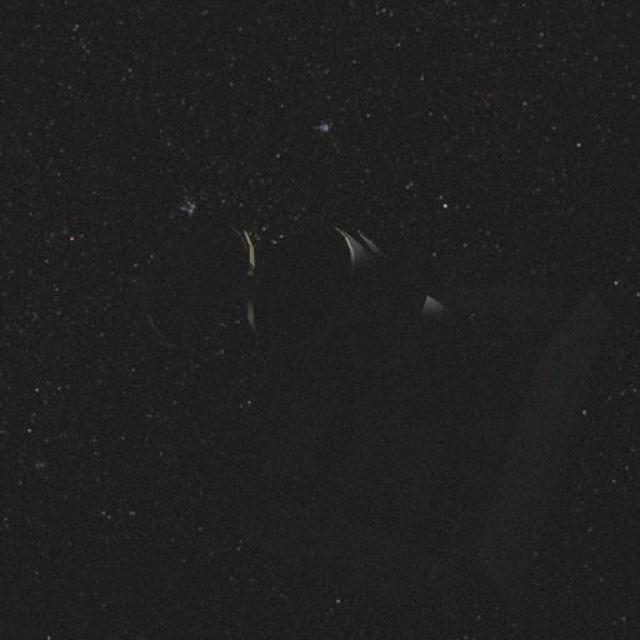cheops: (156, 192, 457, 392)
